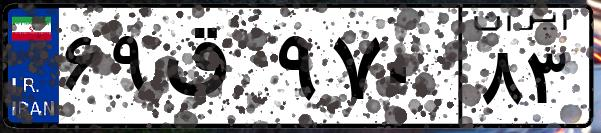0: (385, 28, 445, 110)
3: (525, 38, 570, 115)
6: (57, 26, 110, 100)
7: (330, 28, 385, 110)
8: (475, 38, 525, 113)
9: (270, 28, 330, 110), (110, 28, 158, 98)
ق: (158, 20, 270, 120)
